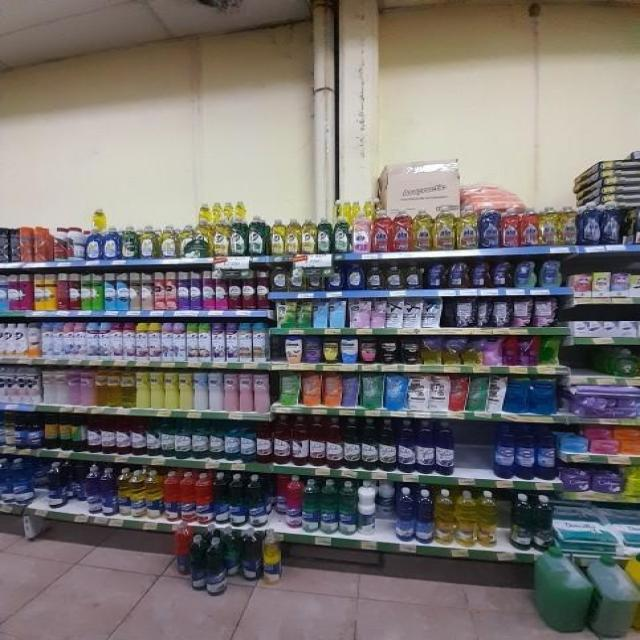ala_conc_amarillo: (433, 206, 456, 250), (412, 208, 433, 251), (457, 208, 478, 249), (538, 206, 558, 246), (559, 207, 578, 246)
ala_conc_azul: (480, 208, 500, 248)
ala_conc_rojo: (372, 210, 391, 252), (392, 210, 411, 251), (501, 208, 519, 248), (520, 208, 537, 246)
ala_crem_amarillo: (178, 370, 193, 410), (150, 370, 164, 410), (165, 370, 178, 410)
ala_crem_blanco: (209, 370, 223, 410)
ala_crem_rosado: (254, 372, 271, 412), (239, 371, 253, 412)
ala_ultra_rosa: (352, 211, 372, 253)
cif_conc_bot_amarilla: (269, 218, 285, 255), (300, 218, 316, 254), (285, 218, 299, 255)
cif_conc_botella_verde: (248, 214, 268, 256), (230, 212, 247, 256), (316, 217, 332, 254)
magistral_con_amarillo: (160, 223, 178, 259), (404, 261, 423, 290), (385, 262, 402, 290)
magistral_con_azul: (345, 262, 364, 291), (365, 262, 384, 290), (325, 264, 344, 291), (270, 265, 288, 292)
zorro: (470, 258, 490, 289), (448, 260, 468, 289), (426, 261, 446, 290)
